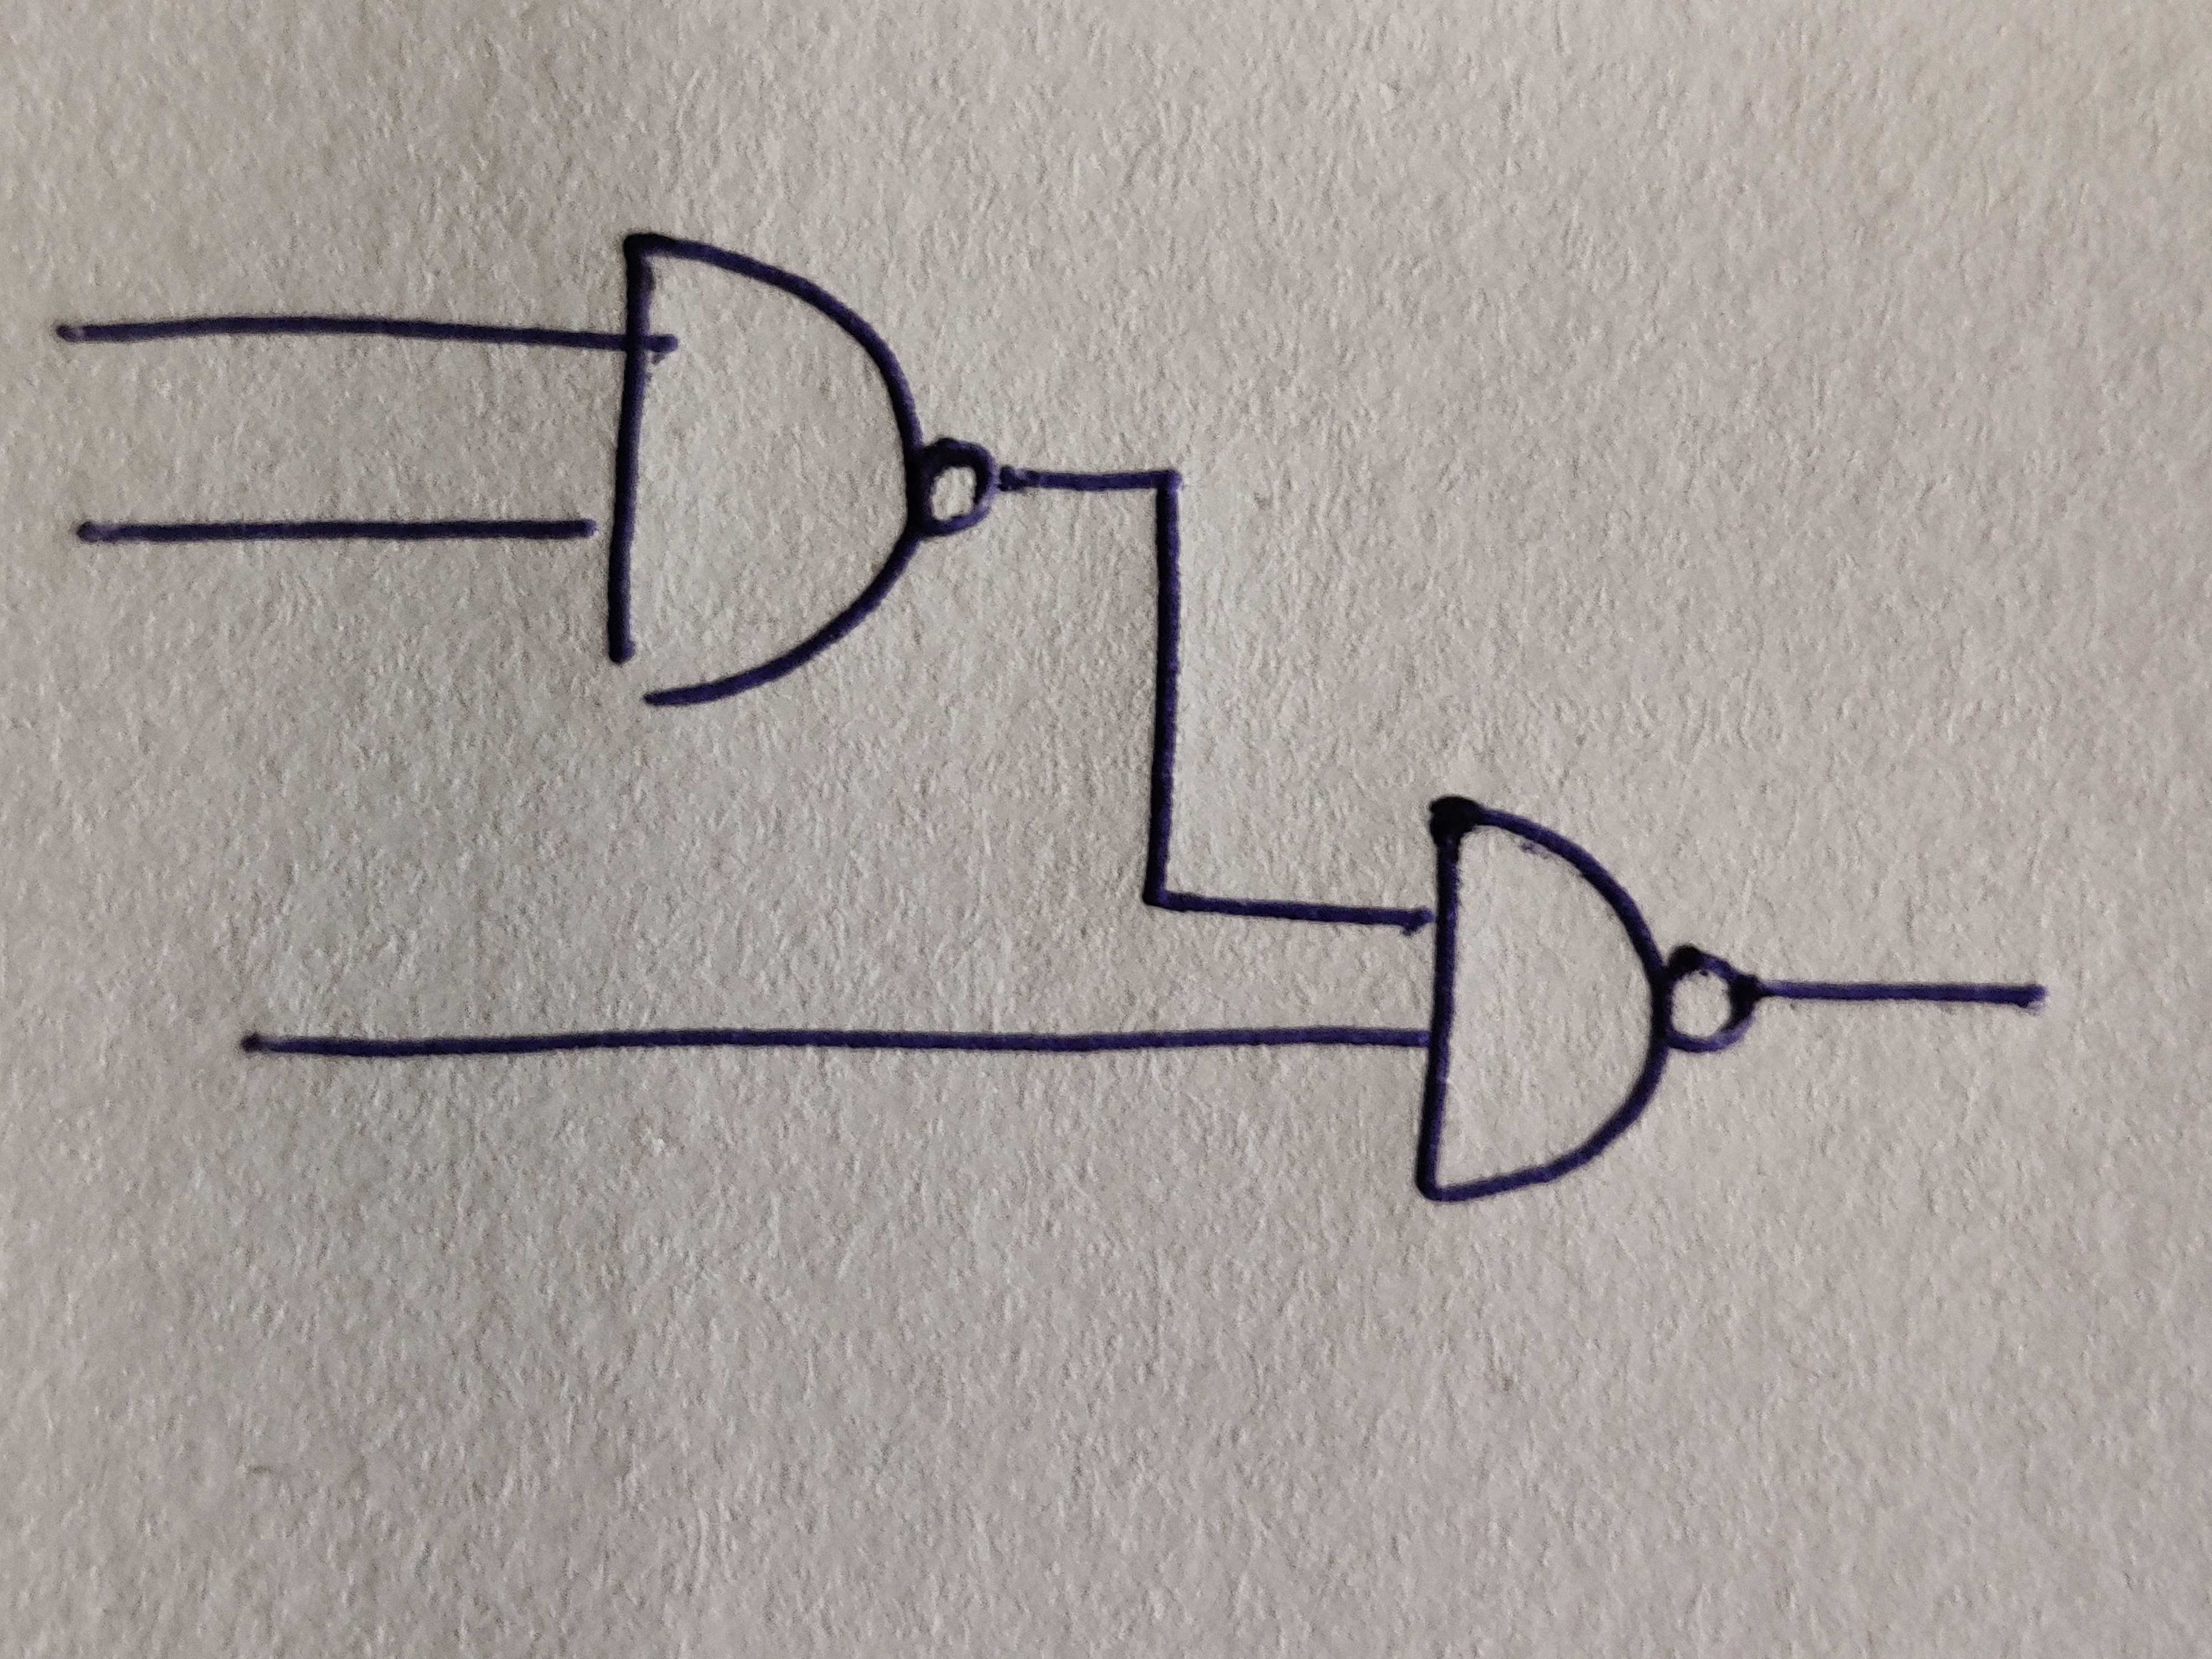and: (606, 232, 921, 706), (1414, 798, 1667, 1201)
not: (1663, 945, 1752, 1054), (913, 439, 996, 538)
